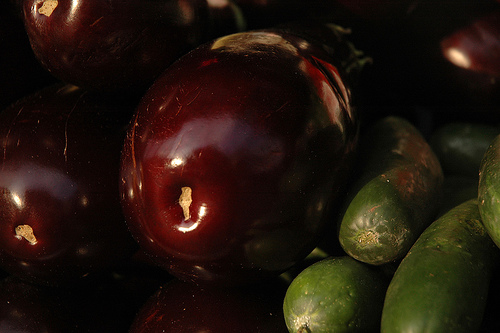cucumber: (332, 115, 442, 265), (380, 197, 497, 332), (283, 261, 376, 332)
